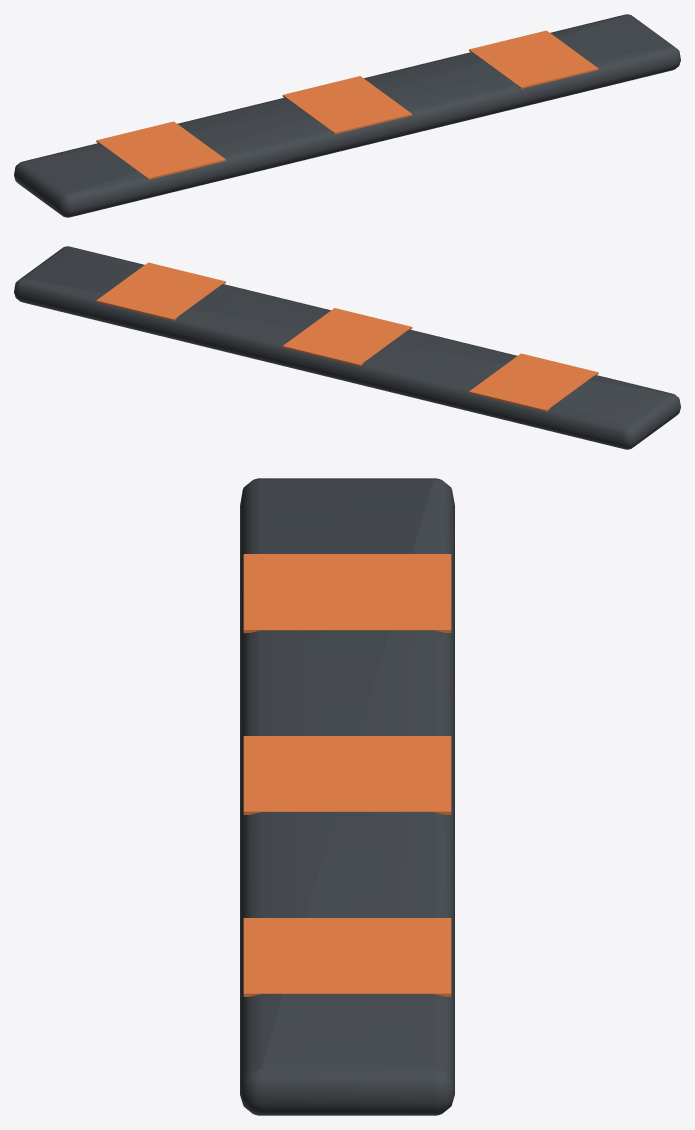
The model's file is long-haul-trucking-and-truck-stop-speed-hump-38db43d2__13996.glb.
3 views of the same model, one above another, from view 1: azimuth 30°, elevation 25°; view 2: azimuth 150°, elevation 25°; view 3: azimuth 270°, elevation 25° (orthographic). The views are drawn at different scales.
Parts seen in each view (by area): view 1: speed-hump; view 2: speed-hump; view 3: speed-hump.
Part boxes in pixels (box(x1,y1,x2,y2)): speed-hump: box(14, 14, 680, 217); speed-hump: box(14, 246, 680, 449); speed-hump: box(240, 478, 454, 1115).
Size of the model in its own units: 4 by 0.1412 by 0.6001.
